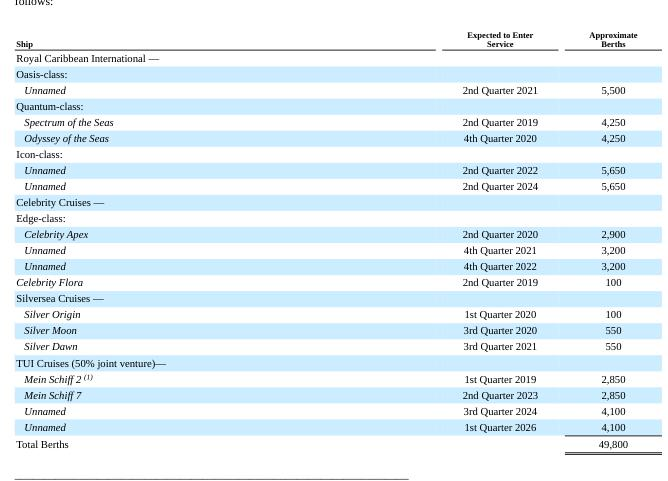table: (15, 29, 636, 449)
table column: (287, 29, 562, 449), (15, 29, 287, 449), (562, 29, 636, 449)
table column header: (15, 29, 636, 49)
table projected row header: (15, 49, 636, 65), (15, 65, 636, 81), (15, 97, 636, 113), (15, 145, 636, 161), (15, 193, 636, 209), (15, 209, 636, 225), (15, 289, 636, 305), (15, 353, 636, 369)
table row: (15, 29, 636, 49), (15, 385, 636, 402), (15, 49, 636, 65), (15, 65, 636, 81), (15, 81, 636, 97), (15, 97, 636, 113), (15, 113, 636, 129), (15, 129, 636, 145), (15, 145, 636, 161), (15, 161, 636, 177), (15, 177, 636, 193), (15, 193, 636, 209), (15, 209, 636, 225), (15, 225, 636, 241), (15, 241, 636, 257), (15, 257, 636, 273), (15, 273, 636, 289), (15, 289, 636, 305), (15, 305, 636, 321), (15, 321, 636, 337), (15, 337, 636, 353), (15, 353, 636, 369), (15, 369, 636, 385), (15, 402, 636, 418), (15, 418, 636, 434), (15, 434, 636, 449)
